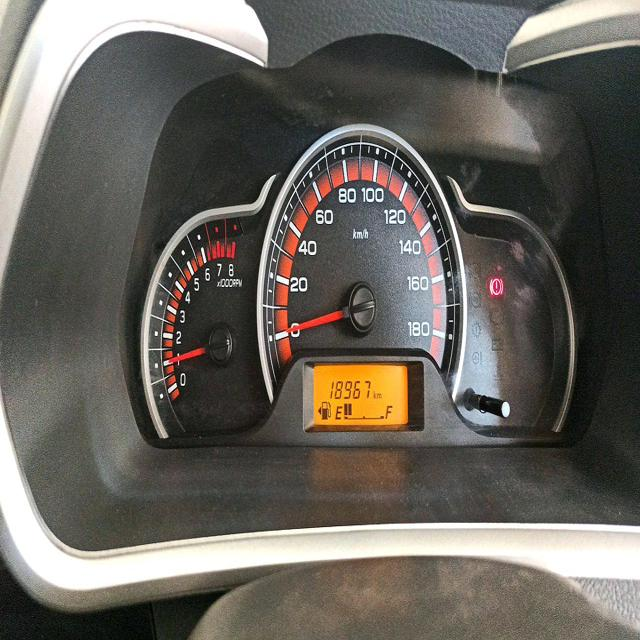odometer: (328, 376, 372, 403)
